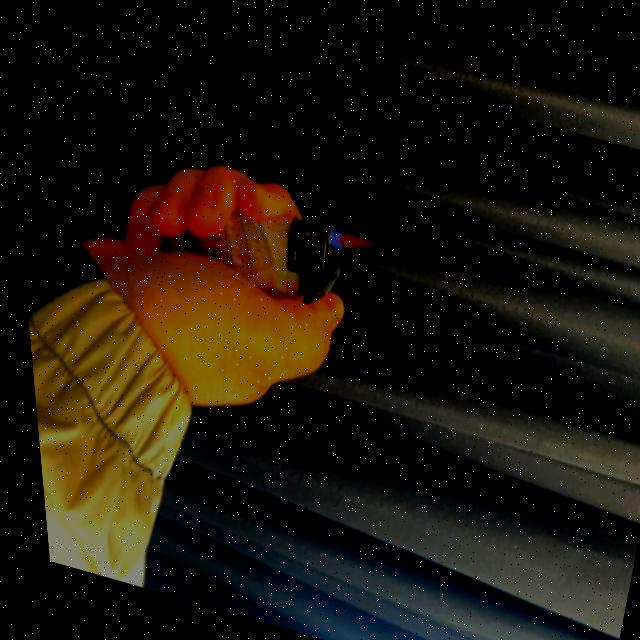Fire: (324, 221, 392, 263)
